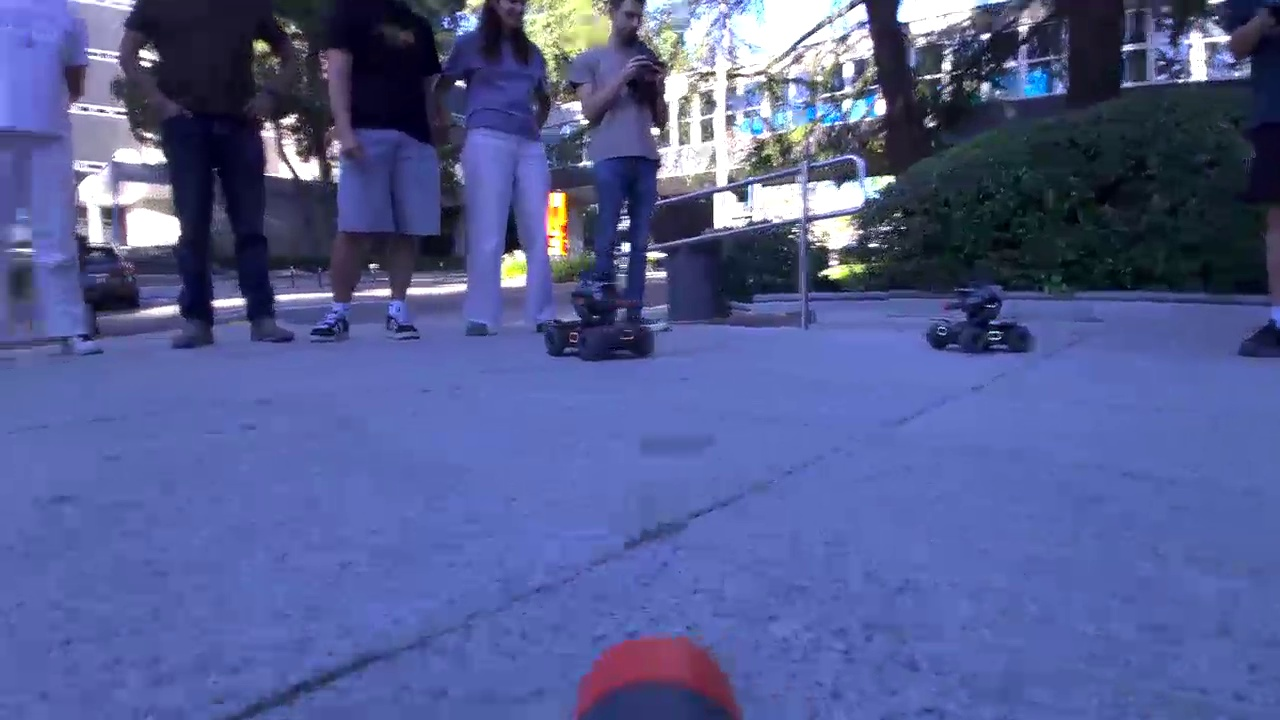robot: (540, 285, 661, 376), (923, 282, 1032, 357)
